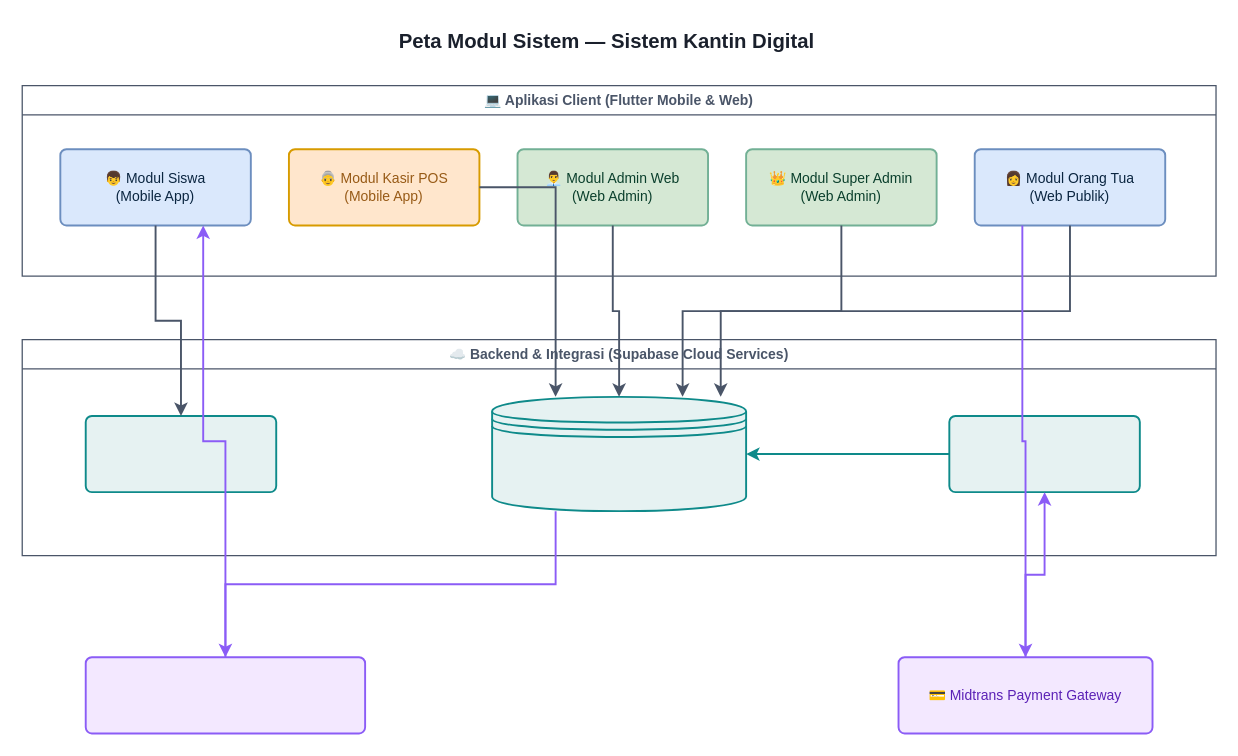
Image size: 1238x756. Some labels were removed from this diagram. Each missing label, with the box of its shape:
⚡ Edge Functions (Webhooks): (948, 414, 1140, 493)
📡 Firebase Cloud Messaging (FCM): (84, 656, 366, 734)
🔑 Supabase Auth: (84, 414, 277, 493)
🗄️ PostgreSQL DB (Tables & Constraints): (491, 395, 747, 512)
